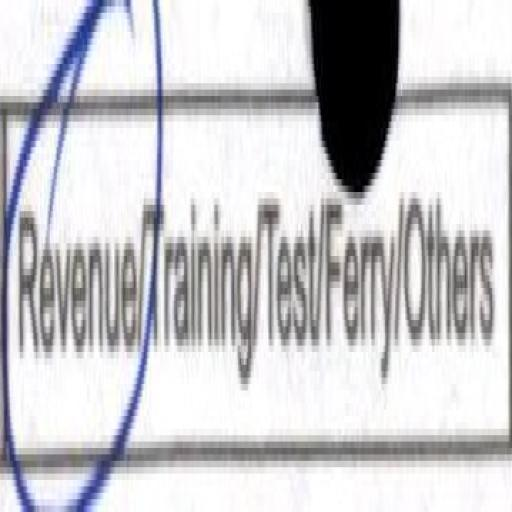check: (0, 16, 138, 512)
